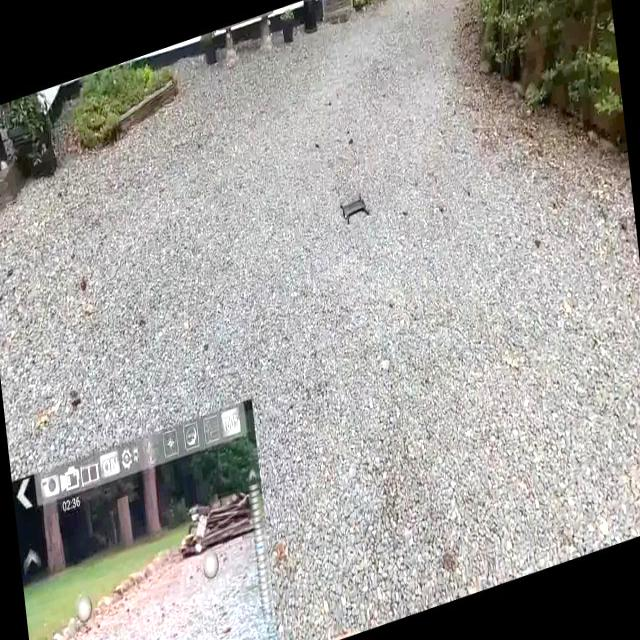drone: (335, 186, 373, 225)
